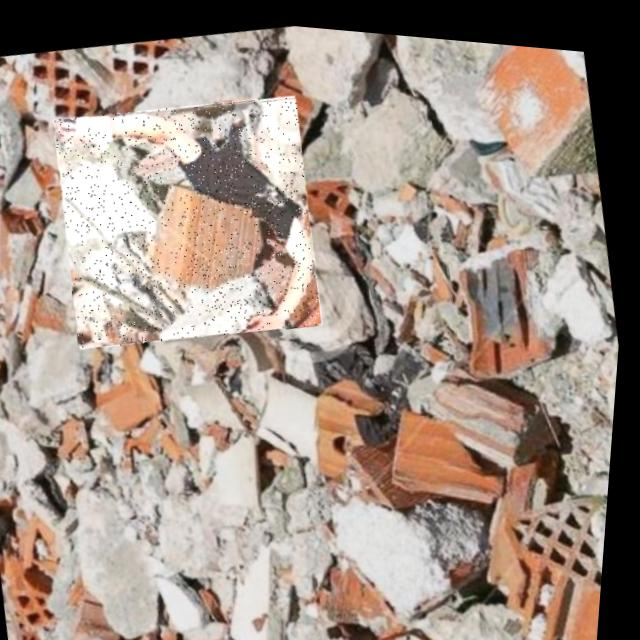Person in Rubble: (41, 71, 340, 363)
